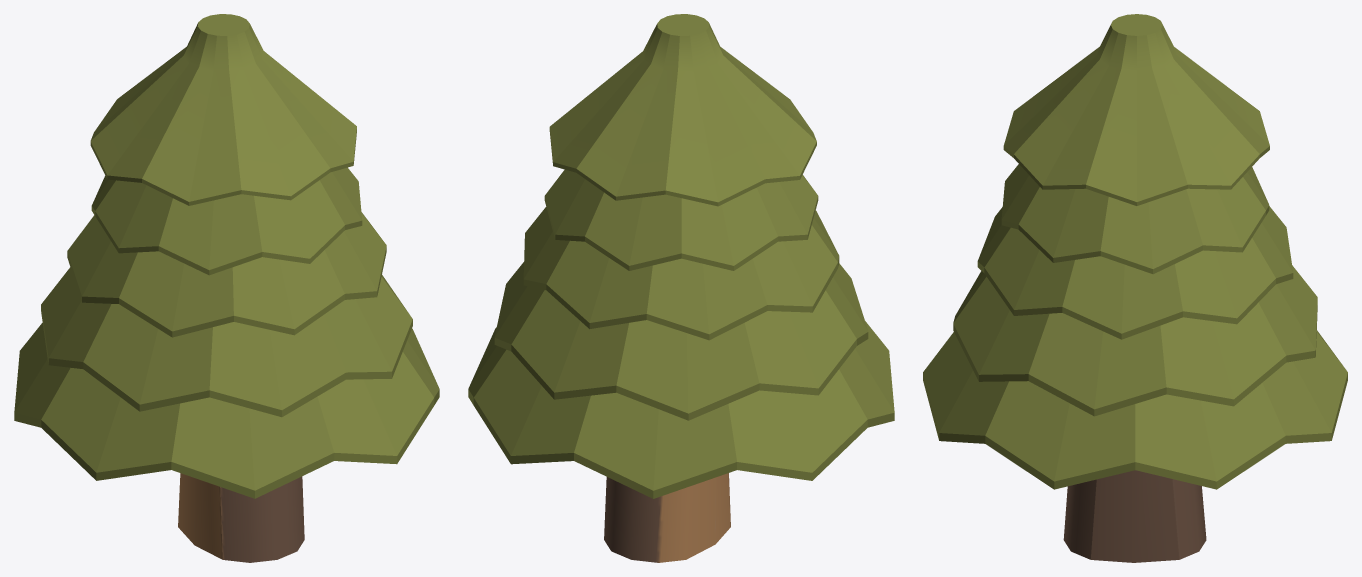
The model's file is FBX_TreeB.fbx.
3 views of the same model, side by side, from view 1: azimuth 30°, elevation 25°; view 2: azimuth 150°, elevation 25°; view 3: azimuth 270°, elevation 25° (orthographic).
Visible parts, largest first — view 1: pCylinder35; view 2: pCylinder35; view 3: pCylinder35.
Boxes of the visible parts, left/top/right/bottom form: pCylinder35: left=14, top=14, right=439, bottom=562; pCylinder35: left=468, top=14, right=894, bottom=562; pCylinder35: left=923, top=14, right=1347, bottom=562.
Bounding box in the file's own units: 97.38 × 128 × 97.38.
